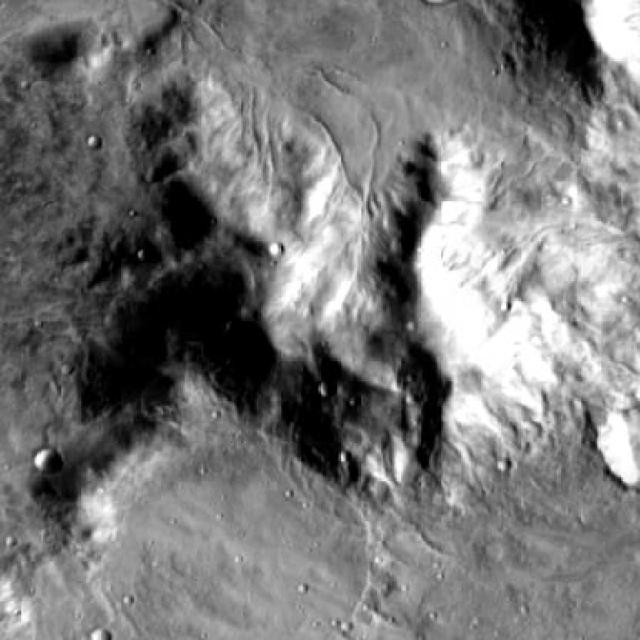crater: (76, 386, 384, 640), (589, 405, 640, 486), (36, 452, 61, 476), (87, 624, 112, 640), (314, 382, 332, 400)
